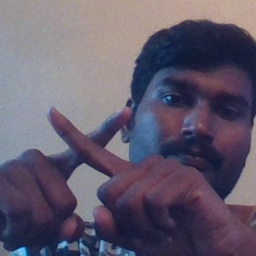X: (22, 92, 161, 237)
